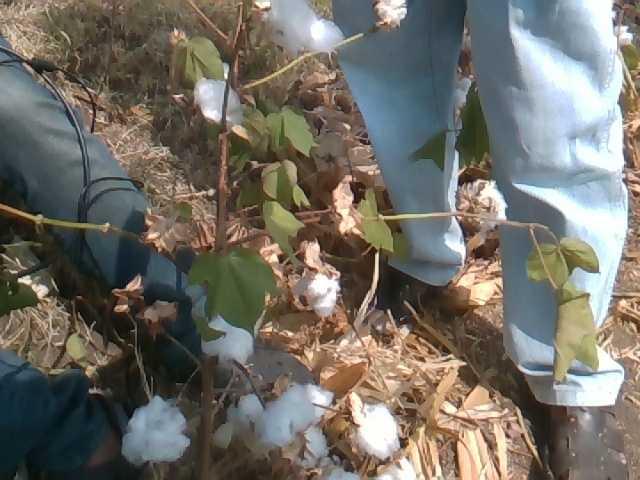cotton: (252, 379, 335, 452), (253, 1, 345, 60), (183, 59, 251, 137), (116, 396, 195, 463), (331, 394, 408, 458), (219, 386, 270, 462), (197, 314, 261, 372), (450, 176, 508, 239), (290, 257, 341, 324), (376, 1, 409, 40)
